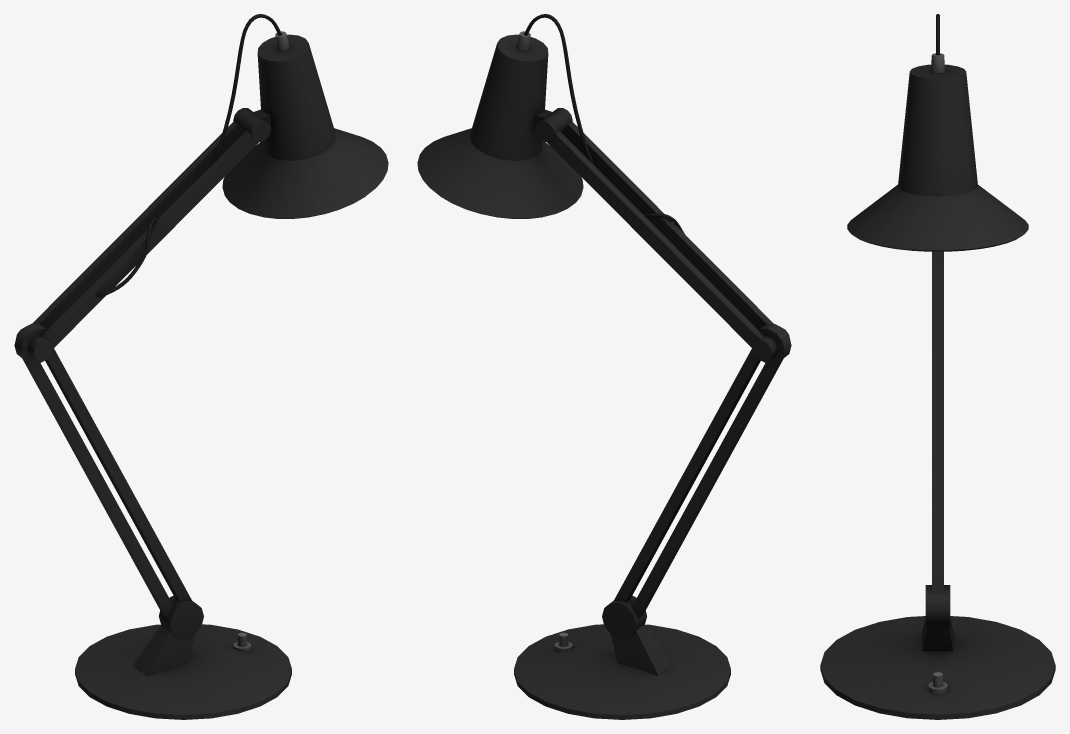
Rendered from tabel_lamp2.glb.
3 views of the same model, side by side, from view 1: azimuth 30°, elevation 25°; view 2: azimuth 150°, elevation 25°; view 3: azimuth 270°, elevation 25° (orthographic). The views are drawn at different scales.
Visible parts, largest first — view 1: lamp_a; view 2: lamp_a; view 3: lamp_a.
Part boxes in pixels (x1,y1,x2,y2): lamp_a: [14, 14, 388, 719]; lamp_a: [417, 14, 791, 719]; lamp_a: [820, 14, 1055, 719].
Bounding box in the file's own units: 33.59 × 57.35 × 17.6.
Materials: 1 (1 with a texture image).
